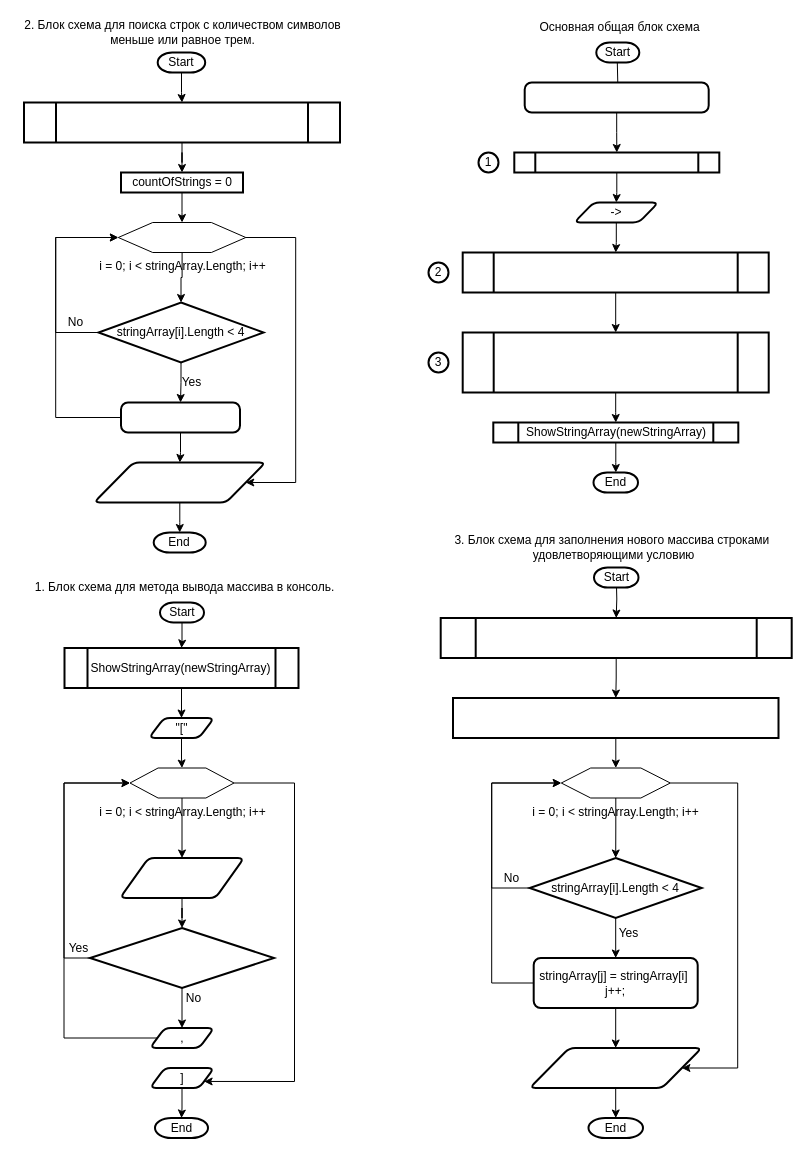
Image size: 810x1156. Some labels were removed from this diagram. The shapes that lost their labels are listed below. From the top down, each one's centre as x and y in pixels, then its label:
(616,97): stringArray = ["kazan", "moscow", "ufa", "sochi", "ula", "123"]
(181,122): sizeNewStringArray = FindStringsWithLessOrEqual3(stringArray)
(616,162): ShowStringArray(stringArray)
(615,272): sizeNewStringArray = FindStringsWithLessEqual3(stringArray)
(615,362): newStringArray = FillArrayWithLessOrEqual3(stringArray, sizeNewStringArray)
(180,417): countOfStrings++;
(179,482): return countOfStrings
(615,637): FillArrayWithLessOrEqual3(string[] stringArray, int sizeNewArray)
(615,717): string[] newstringArray = new string [sizeNewStringArray] j = 0;
(181,877): "stingArray[i]"
(181,957): i == stringArray.Length - 1
(615,1067): return newStringArray
